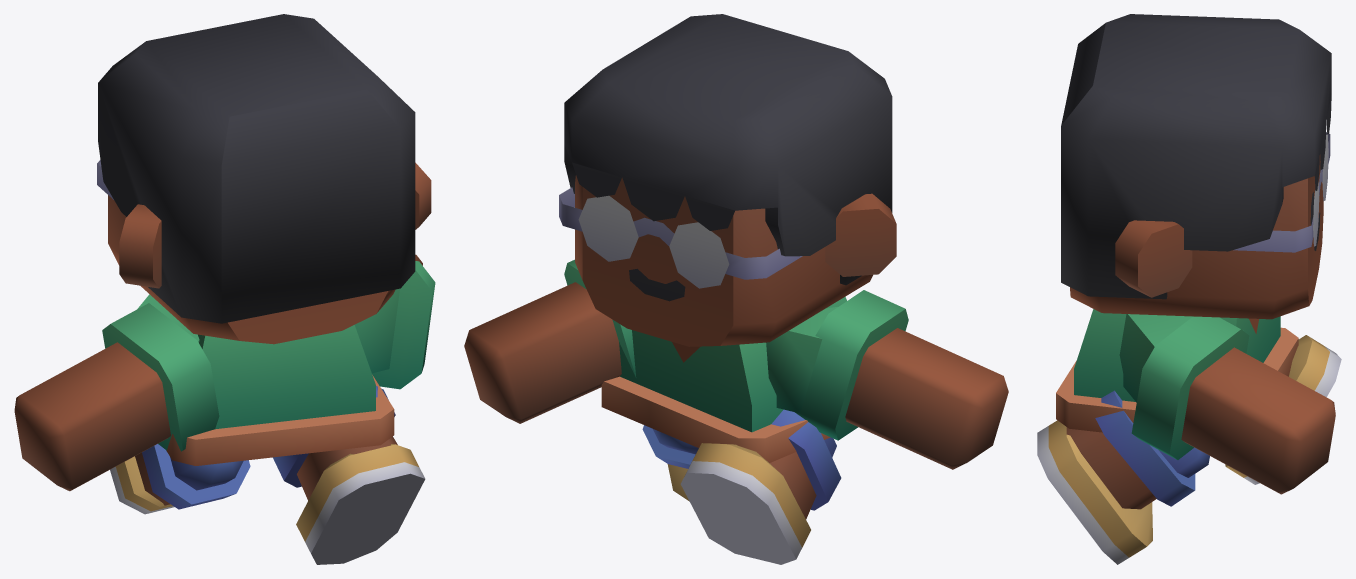
Rendered from hand_0_w1.fbx.
3 views of the same model, side by side, from view 1: azimuth 30°, elevation 25°; view 2: azimuth 150°, elevation 25°; view 3: azimuth 270°, elevation 25° (orthographic). The views are drawn at different scales.
Parts seen in each view (by area): view 1: body-mesh; view 2: body-mesh; view 3: body-mesh.
Boxes of the visible parts, <box> form: body-mesh: <box>14,14,435,564</box>; body-mesh: <box>464,14,1008,564</box>; body-mesh: <box>1037,14,1341,564</box>.
Size of the model in its own units: 0.9939 by 1 by 0.5787.
